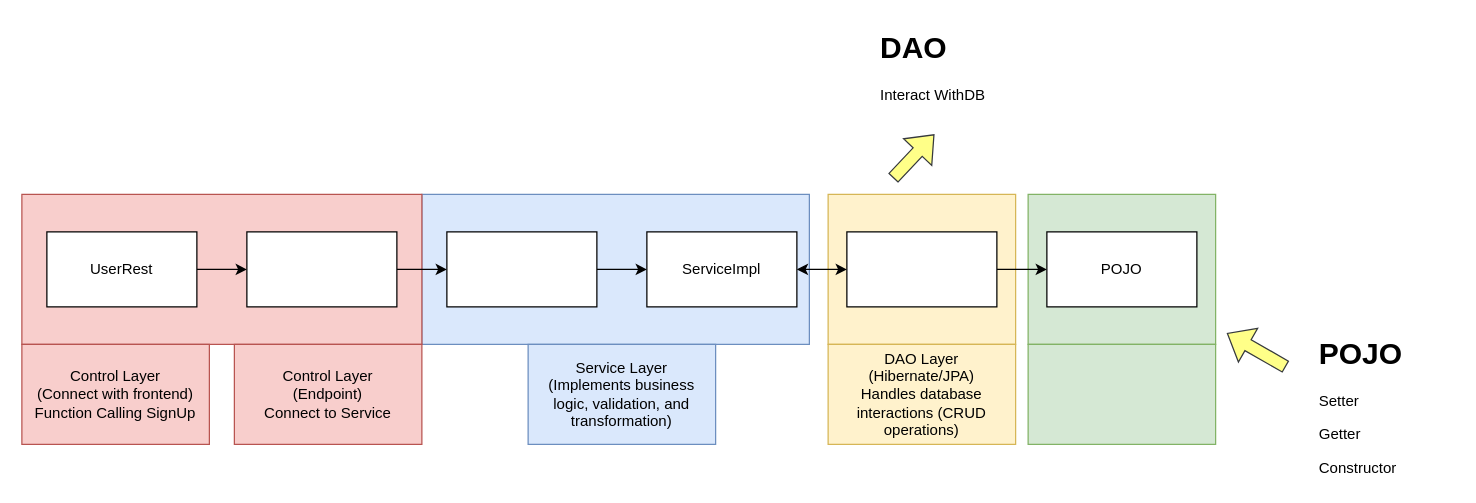
Some shapes in this 1476 by 503 pixel diagram are drawn without their labels. The centre of each missing label's shape, as x and y in pixels:
DAO: the point at 921,269
Data Layer (Entities): the point at 1121,393
Service: the point at 521,269
UserRestImpl: the point at 321,269
